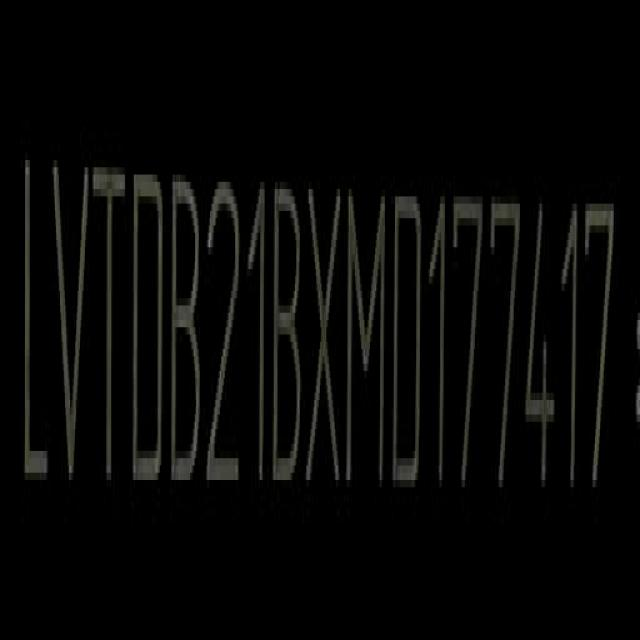1: (250, 180, 270, 487), (430, 188, 449, 493), (558, 195, 577, 497)
2: (208, 178, 244, 488)
4: (525, 191, 556, 495)
7: (490, 188, 521, 493), (454, 186, 482, 494), (585, 188, 613, 491)
B: (172, 173, 205, 490), (273, 180, 302, 485)
D: (131, 163, 165, 488), (393, 188, 426, 490)
L: (17, 150, 48, 500)
M: (348, 183, 387, 489)
T: (96, 156, 126, 492)
V: (51, 154, 91, 493)
X: (308, 181, 342, 486)
